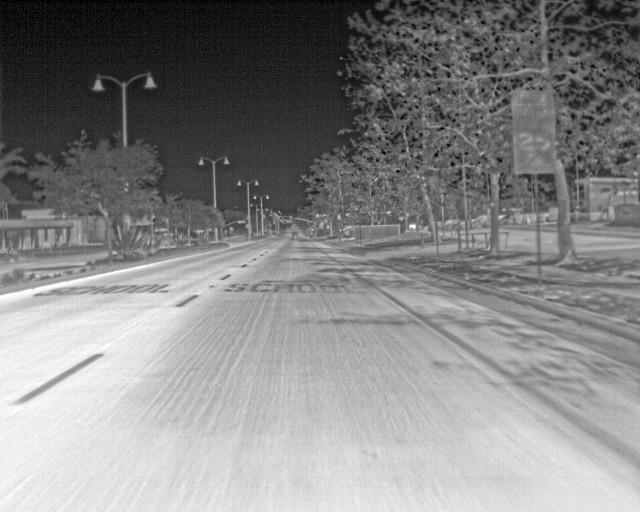car: (292, 232, 298, 238)
light: (290, 215, 292, 220)
sign: (511, 90, 557, 174), (238, 221, 246, 223), (230, 228, 233, 231)
